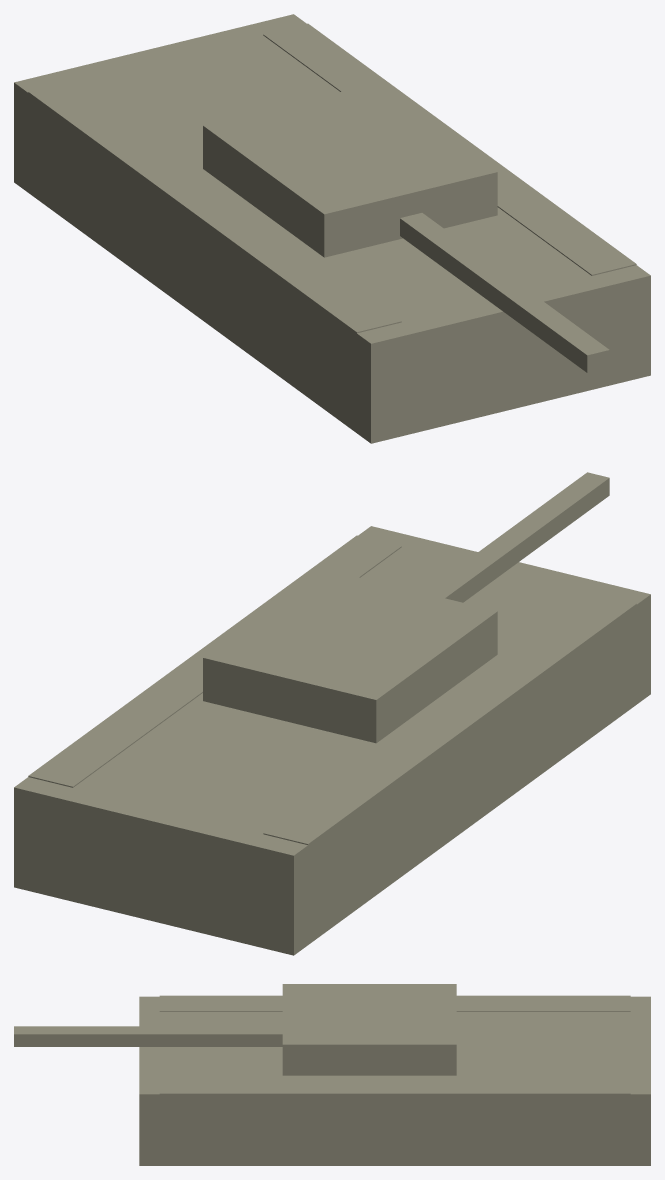
Rendered from bmp3.glb.
3 renders of one model, top to bottom at view 1: azimuth 30°, elevation 25°; view 2: azimuth 150°, elevation 25°; view 3: azimuth 270°, elevation 25°, orthographic. The views are drawn at different scales.
Visible parts, largest first — view 1: Hull, Turret, Track_L, Track_R, Gun; view 2: Hull, Turret, Track_L, Track_R, Gun; view 3: Hull, Track_R, Turret, Gun, Track_L.
Boxes of the visible parts, x1,y1,x2,y2 form: Hull: (14,14,650,443); Turret: (203,83,497,257); Track_L: (28,81,401,380); Track_R: (263,23,636,275); Gun: (400,213,609,372); Hull: (14,526,650,955); Turret: (203,569,497,743); Track_L: (263,593,636,892); Track_R: (28,535,401,787); Gun: (423,472,609,602); Hull: (139,996,650,1165); Track_R: (159,1078,630,1128); Turret: (282,984,456,1075); Gun: (14,1026,282,1046); Track_L: (159,995,630,1011).
Bounding box in the file's own units: 3.23 × 1.58 × 8.89.
